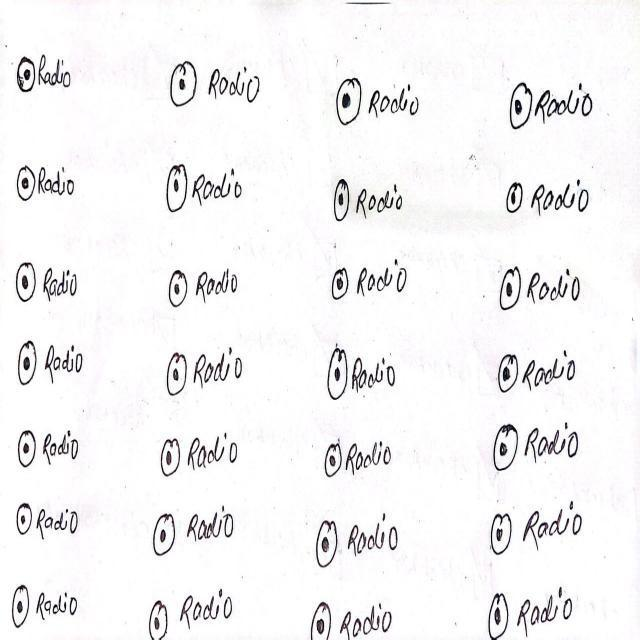radio: (331, 66, 369, 134), (306, 514, 344, 576), (484, 501, 518, 566), (487, 418, 524, 476), (169, 58, 204, 117), (149, 501, 184, 559), (152, 429, 187, 486), (324, 346, 352, 411), (164, 160, 193, 220), (326, 173, 355, 232), (508, 70, 534, 135), (326, 256, 356, 306), (163, 350, 193, 399), (496, 266, 525, 316), (165, 264, 193, 314), (495, 352, 524, 398), (323, 436, 346, 491), (15, 261, 41, 308), (144, 594, 170, 640), (13, 51, 39, 96), (14, 164, 38, 211), (11, 584, 34, 633), (307, 598, 333, 640), (504, 176, 528, 220), (18, 340, 38, 391), (18, 429, 39, 472), (15, 500, 36, 541)
